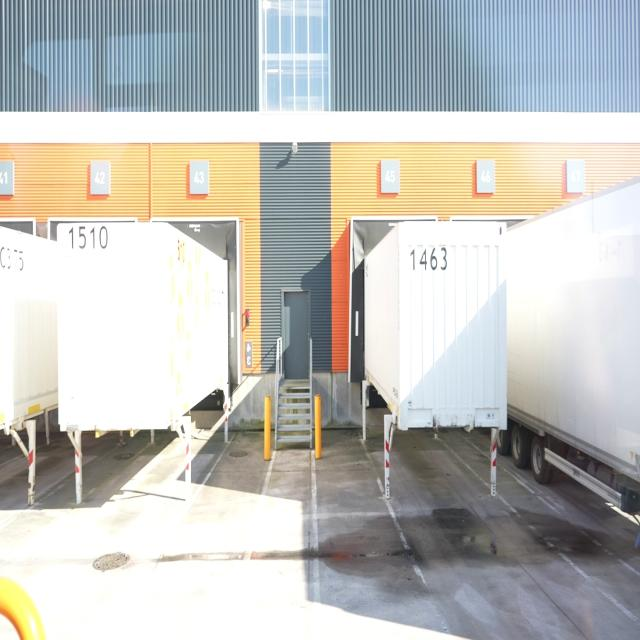Code: (66, 222, 110, 254), (405, 243, 449, 273)
